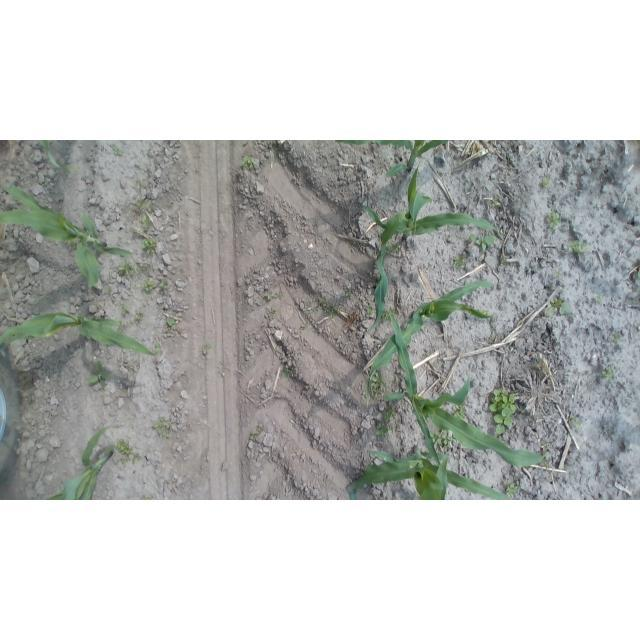Maize: (361, 164, 508, 338), (364, 281, 497, 410), (378, 378, 550, 474), (0, 181, 136, 289), (342, 444, 514, 500), (1, 307, 160, 360), (35, 425, 120, 500), (330, 140, 461, 178), (33, 141, 84, 176)
Weeds: (487, 388, 519, 437), (116, 437, 145, 470), (375, 406, 398, 443), (87, 360, 114, 390), (543, 297, 574, 318), (464, 232, 500, 250), (317, 297, 342, 320), (429, 431, 453, 451), (153, 418, 176, 438), (370, 370, 386, 398), (502, 478, 523, 498), (138, 237, 158, 256), (565, 240, 590, 255), (543, 457, 567, 472), (451, 252, 470, 270), (117, 260, 137, 277), (543, 211, 561, 229), (450, 403, 467, 422), (279, 363, 295, 383), (137, 197, 156, 213), (138, 278, 156, 294), (262, 290, 286, 302), (567, 415, 585, 430), (203, 340, 217, 359), (238, 155, 257, 169), (109, 144, 125, 159), (381, 309, 399, 322), (539, 176, 557, 189), (250, 425, 265, 439), (602, 366, 616, 381), (612, 331, 625, 347), (549, 266, 565, 279), (139, 492, 162, 501), (135, 263, 153, 274), (158, 276, 170, 292), (487, 197, 503, 209), (166, 316, 177, 332), (140, 215, 151, 230), (151, 341, 161, 356), (266, 307, 279, 318), (307, 305, 320, 316), (497, 258, 511, 268), (118, 304, 131, 314), (365, 306, 375, 317), (594, 294, 604, 305), (389, 242, 400, 252), (132, 180, 144, 189), (298, 323, 311, 331), (344, 290, 352, 303), (480, 309, 493, 317), (135, 312, 145, 322), (218, 368, 227, 378), (393, 374, 403, 383), (102, 286, 113, 294), (179, 439, 188, 447), (636, 264, 640, 282), (147, 143, 154, 150)
